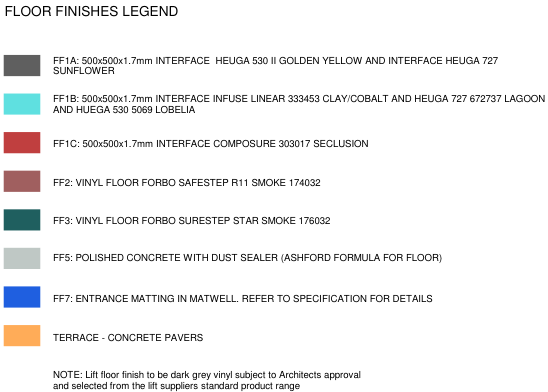hatch: (1, 52, 43, 79), (1, 245, 43, 271), (2, 323, 44, 349), (2, 91, 41, 117), (2, 284, 42, 309), (3, 169, 42, 194), (2, 131, 42, 155), (2, 208, 42, 232)
label: (50, 89, 545, 116), (51, 48, 502, 76), (50, 243, 449, 267), (48, 287, 438, 311), (50, 171, 330, 197), (49, 133, 378, 155), (50, 208, 336, 230), (48, 327, 215, 344)
